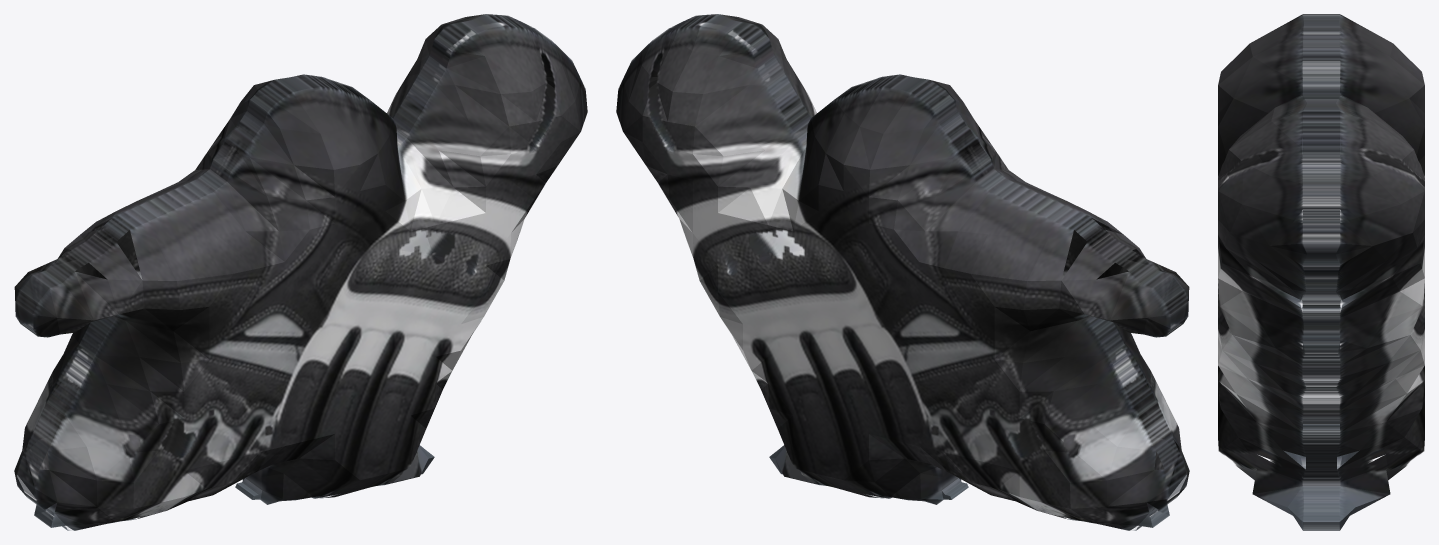
File: quad-lock-horizon-waterproof-glove-114.glb
The picture shows the model from 3 angles, left to right: view 1: azimuth 30°, elevation 25°; view 2: azimuth 150°, elevation 25°; view 3: azimuth 270°, elevation 25°; orthographic projection. The views are drawn at different scales.
Parts seen in each view (by area): view 1: world; view 2: world; view 3: world.
Part boxes in pixels (x1,y1,x2,y2): world: (14,14,587,530); world: (616,14,1189,530); world: (1218,14,1424,530).
Size of the model in its own units: 1 by 0.7424 by 0.3.
Materials: 1 (1 with a texture image).
